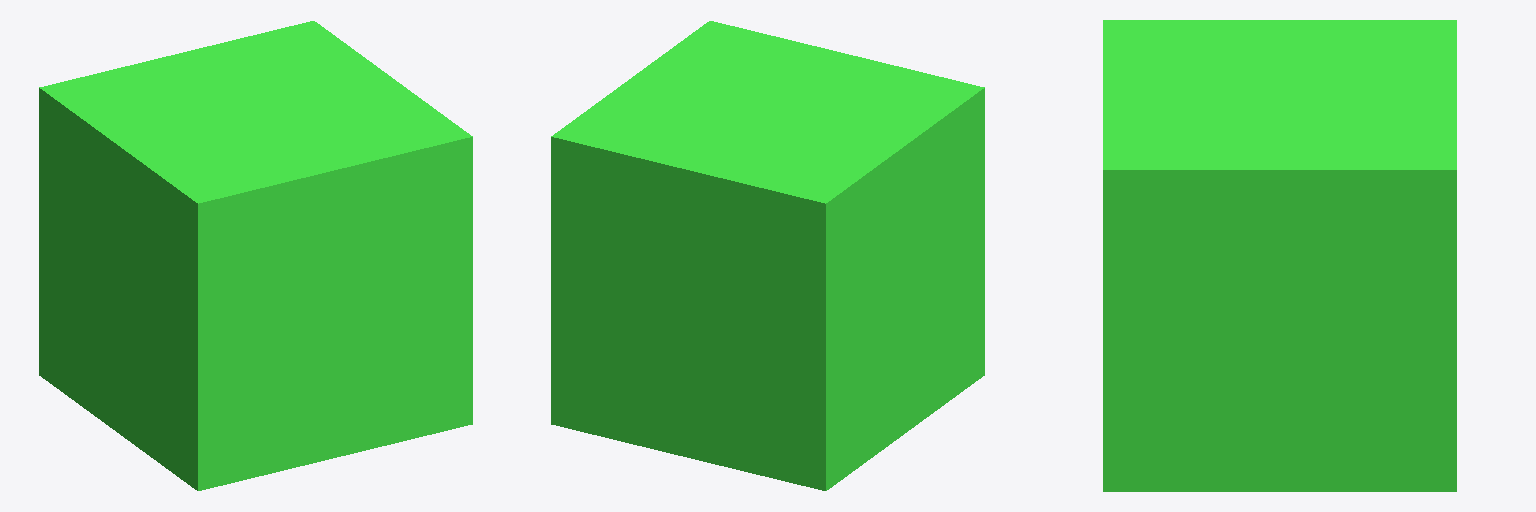
robot.urdf — box2.urdf:
<?xml version="0.0" ?>
<robot name="box2.urdf">
  <link name="baseLink">
    <contact>
      <lateral_friction value="1.0"/>
      <rolling_friction value="0.0001"/>
      <inertia_scaling value="3.0"/>
    </contact>
    <inertial>
      <origin rpy="0 0 0" xyz="0 0 0"/>
       <mass value=".01"/>
       <inertia ixx="1" ixy="0" ixz="0" iyy="1" iyz="0" izz="1"/>
    </inertial>
    <visual>
      <origin rpy="0 0 0" xyz="0 0 0"/>
      <geometry>
         <box size="0.04 0.04 0.04"/>
      </geometry>
      <material name="red">
        <color rgba="0.3412 1 0.3490 1"/>
      </material>
    </visual>
    <collision>
      <origin rpy="0 0 0" xyz="0 0 0"/>
      <geometry>
             <box size="0.04 0.04 0.04"/>
      </geometry>
    </collision>
  </link>
</robot>


--- Facts derived from the render (not from the file) ---
The picture shows the robot from 3 angles, left to right: view 1: azimuth 30°, elevation 25°; view 2: azimuth 150°, elevation 25°; view 3: azimuth 270°, elevation 25°; orthographic projection.
Model box2.urdf with 1 links and 0 joints (none), rooted at baseLink, posed all joints at 0.
Visible links, largest first — view 1: baseLink; view 2: baseLink; view 3: baseLink.
Link boxes in pixels (bbox=[...]): baseLink: bbox=[39, 21, 472, 490]; baseLink: bbox=[551, 21, 984, 490]; baseLink: bbox=[1103, 20, 1456, 491].
Size in the robot's own frame: 0.04 by 0.04 by 0.04 metres.
Geometry: primitives only (box / cylinder / sphere), no mesh files.